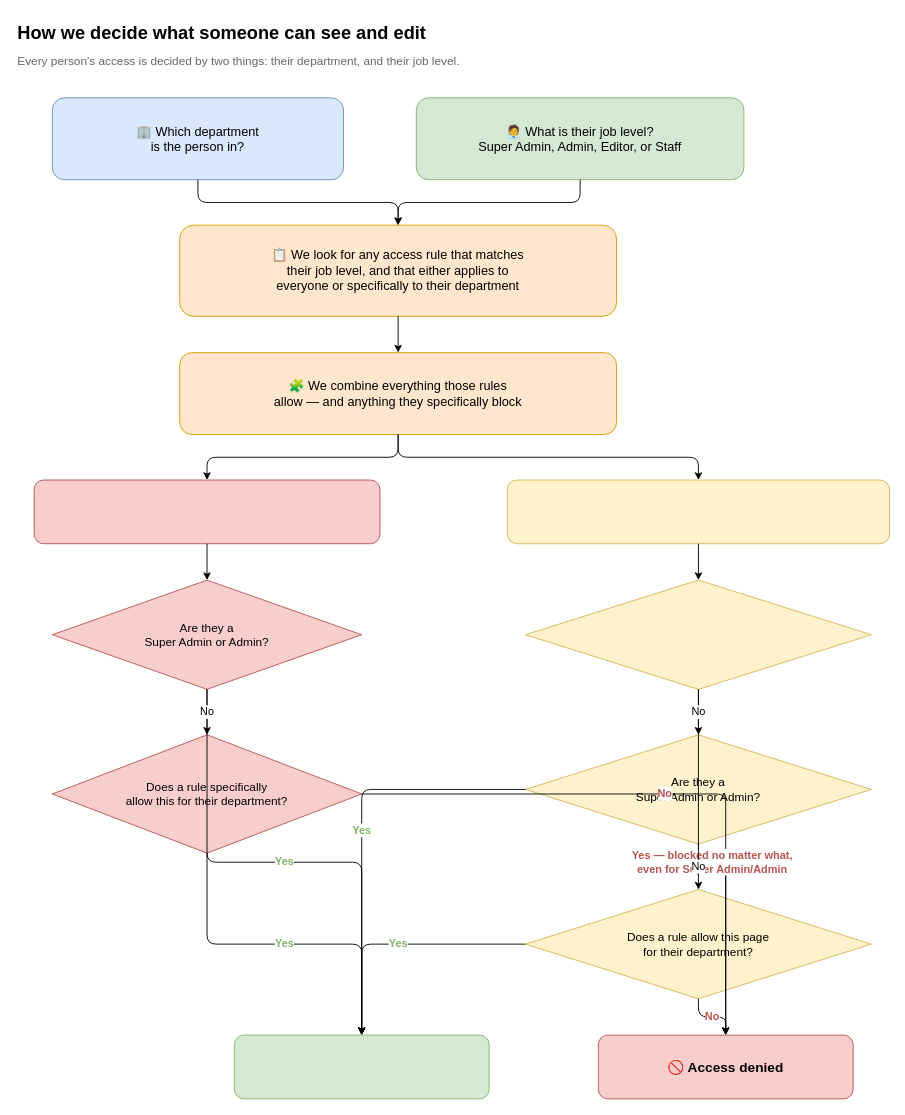
Some shapes in this 905 by 1115 pixel diagram are drawn without their labels. Each missing label, with the centre of its shape:
"Is this page or section specifically blocked for them?" goes at (698,634).
"✅ Access allowed" goes at (361,1066).
"🌐 Can they see this page or section on the website?" goes at (698,511).
"🛠️ Can they manage things in the back-office? (e.g. edit posts, news, events)" goes at (206,511).
